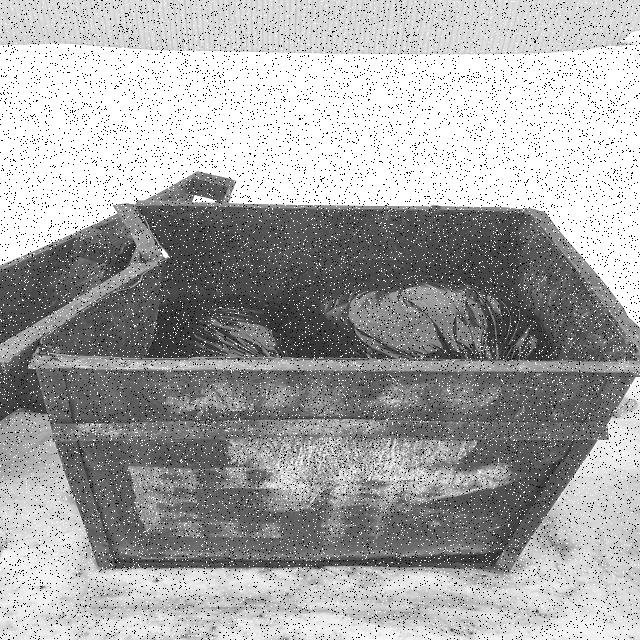Trashcan: (24, 168, 640, 594)
